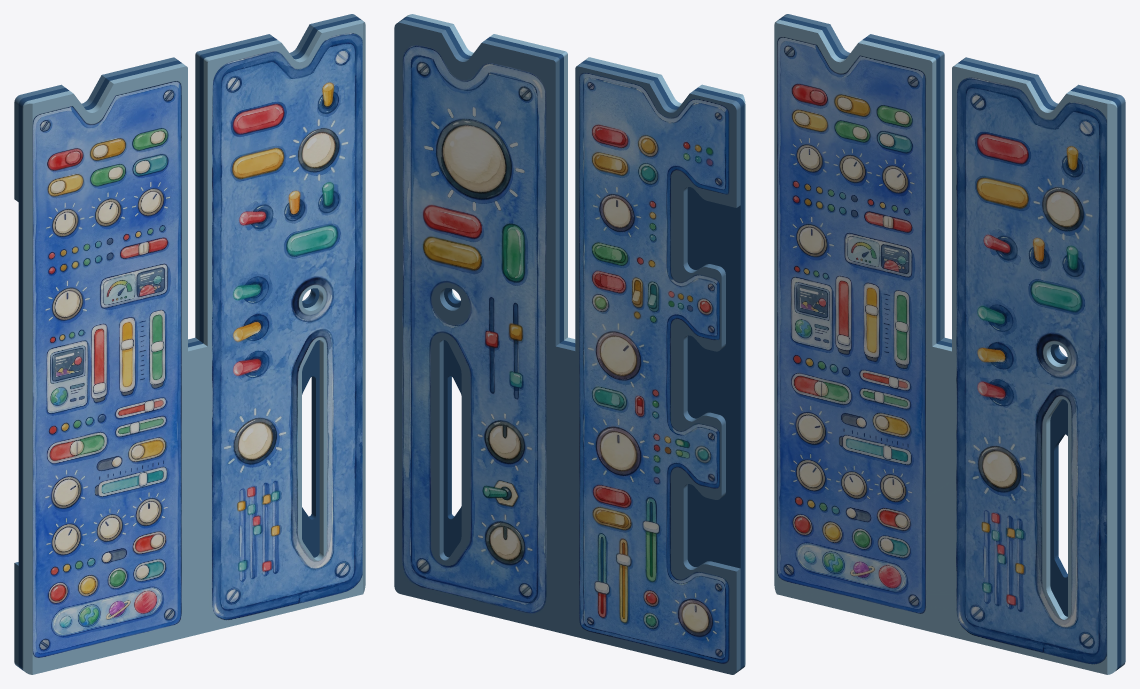
File: narrow-2-bottom.glb
The picture shows the model from 3 angles, left to right: view 1: azimuth 30°, elevation 25°; view 2: azimuth 150°, elevation 25°; view 3: azimuth 330°, elevation 25°; orthographic projection.
Parts seen in each view (by area): view 1: narrow-2-bottom; view 2: narrow-2-bottom; view 3: narrow-2-bottom.
Boxes of the visible parts, x1,y1,x2,y2 form: narrow-2-bottom: [14, 14, 365, 674]; narrow-2-bottom: [394, 14, 745, 674]; narrow-2-bottom: [774, 14, 1125, 674].
Bounding box in the file's own units: 580 × 925 × 36.
5 materials, 2 textured.
